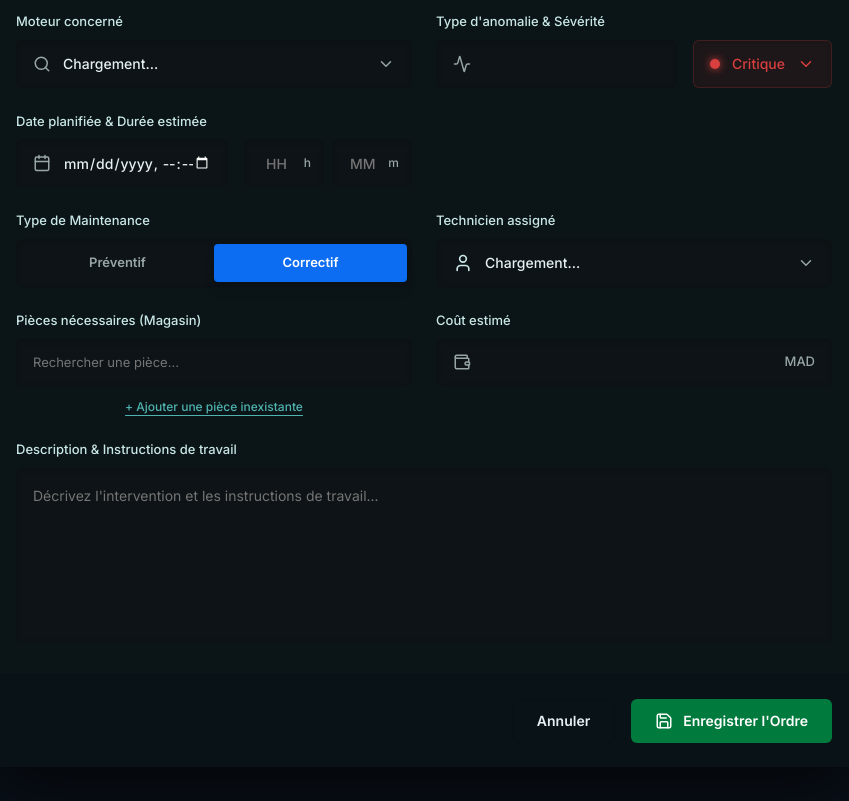
Test: OTForm › shows severity dropdown options
Check: the text "Critique" is shown, box x1=732 y1=53 x2=785 y2=74
Click the button "Critique".
click(763, 64)  # box x1=693 y1=40 x2=832 y2=88
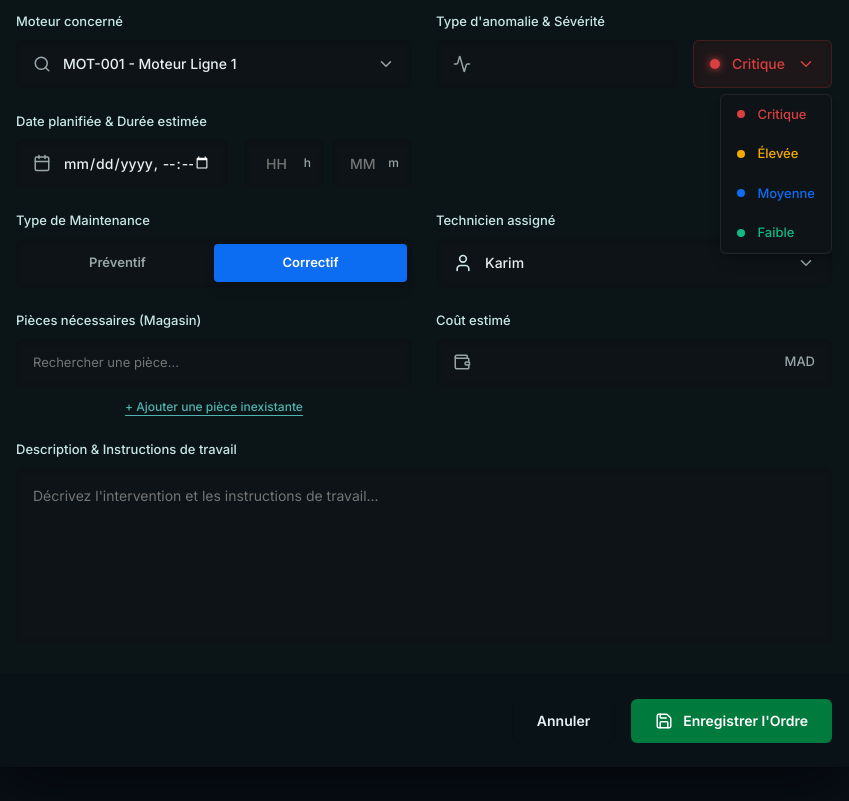
Check: the text "Moyenne" is shown, box x1=757 y1=184 x2=815 y2=203
Check: the text "Faible" is shown, box x1=757 y1=223 x2=794 y2=242
